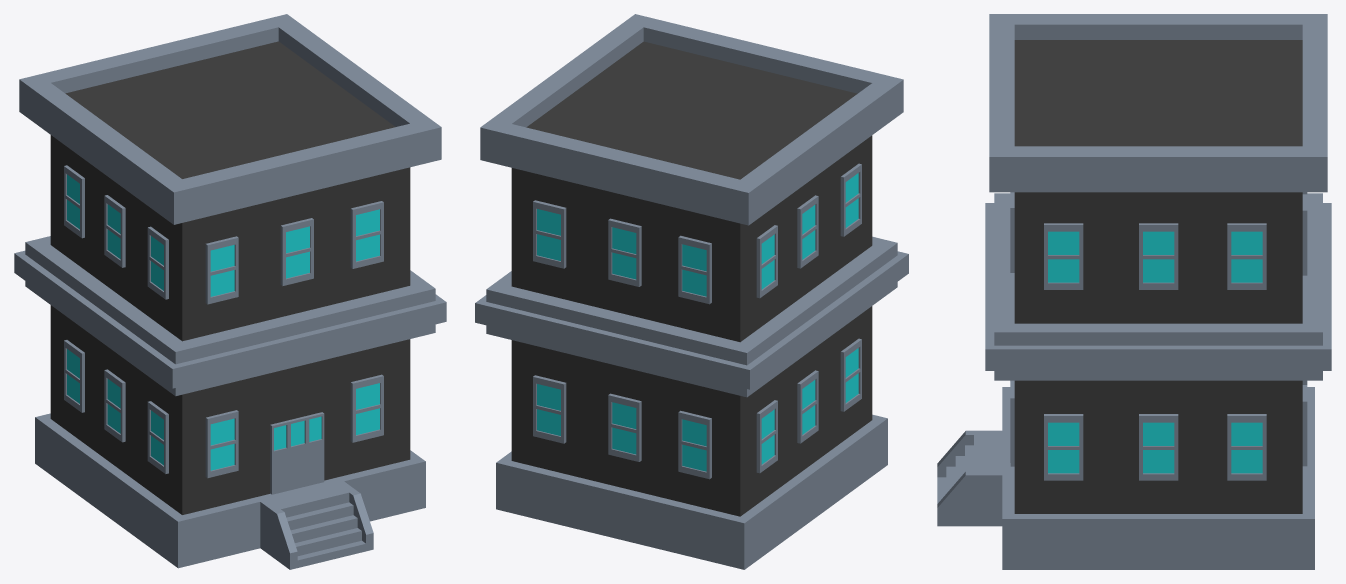
The model's file is Building3_3.fbx.
3 renders of one model, left to right at view 1: azimuth 30°, elevation 25°; view 2: azimuth 150°, elevation 25°; view 3: azimuth 270°, elevation 25°, orthographic. The views are drawn at different scales.
Parts seen in each view (by area): view 1: Building3_3; view 2: Building3_3; view 3: Building3_3.
Part boxes in pixels (x1,y1,x2,y2): Building3_3: [14, 14, 446, 569]; Building3_3: [475, 14, 908, 569]; Building3_3: [937, 14, 1331, 569].
Bounding box in the file's own units: 2173 × 2898 × 2476.
